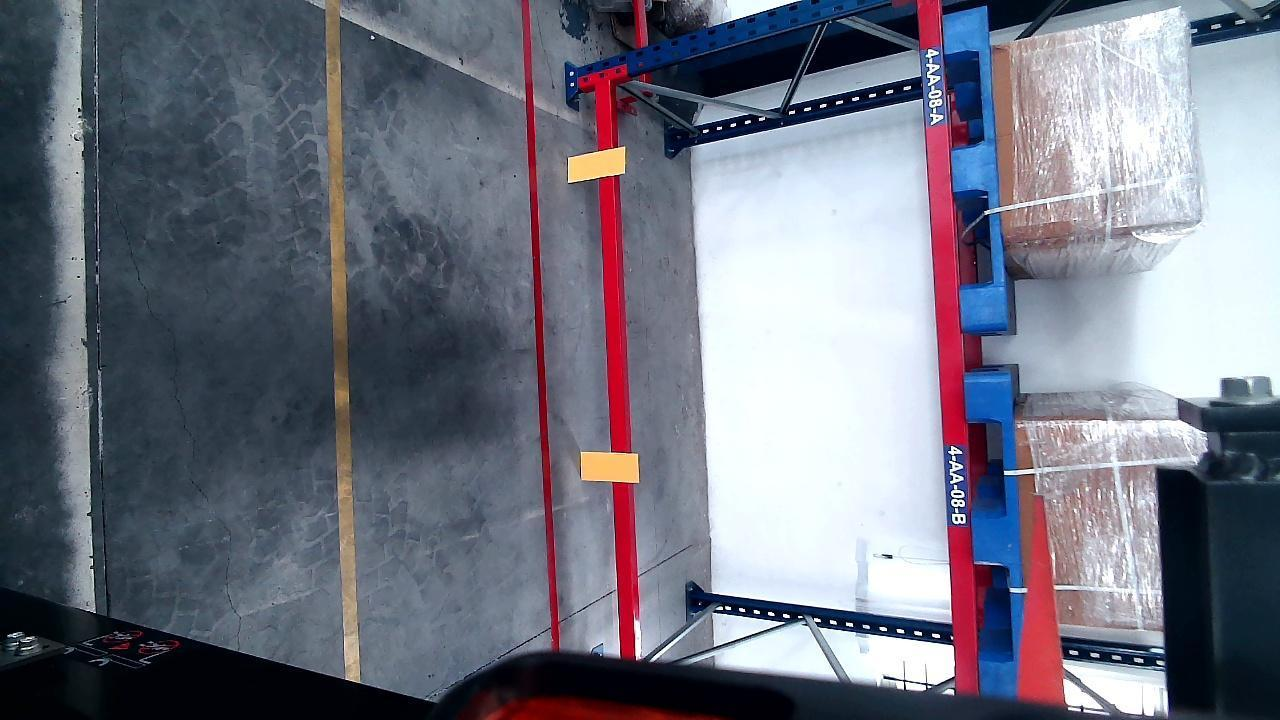h_rack: (917, 0, 980, 691), (594, 80, 637, 665)
orange_strip: (567, 147, 626, 181), (580, 450, 639, 481)
red_line: (521, 0, 564, 649)
small_pallet: (946, 7, 1018, 330), (965, 370, 1031, 688)
yellow_line: (325, 9, 360, 683)
